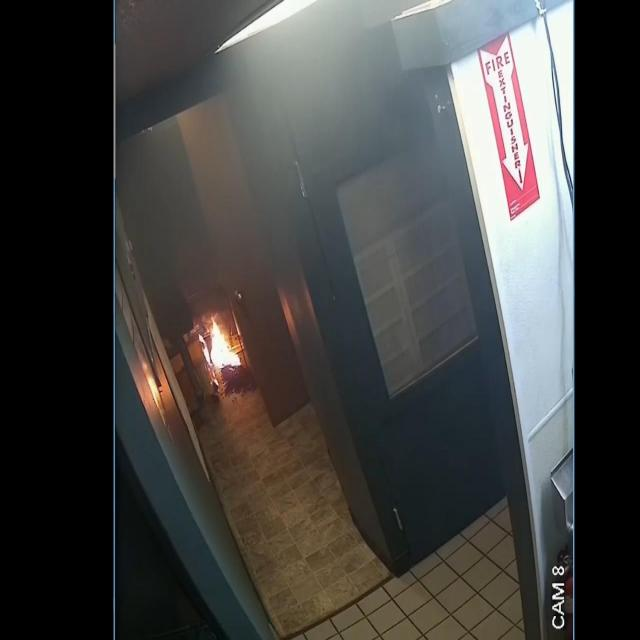fire: (210, 316, 241, 368)
